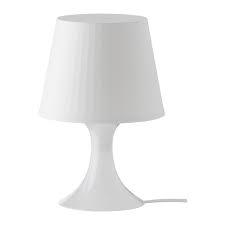Lamp: (32, 11, 178, 216)
